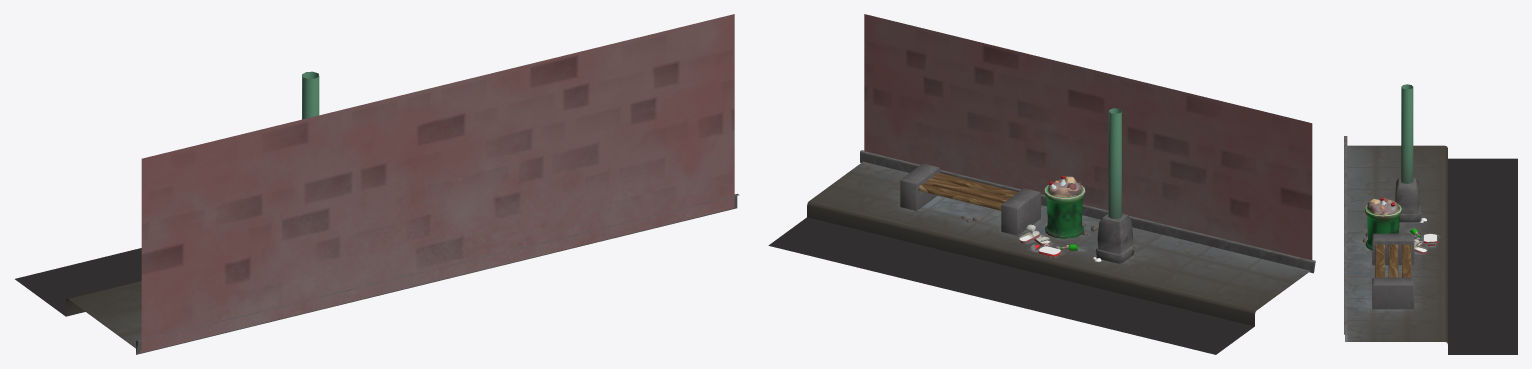
Rendered from TunaCombined.fbx.
3 views of the same model, side by side, from view 1: azimuth 30°, elevation 25°; view 2: azimuth 150°, elevation 25°; view 3: azimuth 270°, elevation 25° (orthographic). The views are drawn at different scales.
Visible parts, largest first — view 1: StreetStreet, BigStuff; view 2: StreetStreet, BigStuff, TrashLamp; view 3: StreetStreet, BigStuff, TrashLamp.
Boxes of the visible parts, box(x1,y1,x2,y2) form: StreetStreet: box(15, 14, 739, 354); BigStuff: box(302, 71, 319, 119); StreetStreet: box(768, 14, 1315, 354); BigStuff: box(900, 108, 1134, 263); TrashLamp: box(1044, 175, 1085, 238); StreetStreet: box(1344, 136, 1517, 354); BigStuff: box(1372, 84, 1420, 309); TrashLamp: box(1365, 197, 1401, 250).
Bounding box in the file's own units: 131015 × 44474 × 48370.
